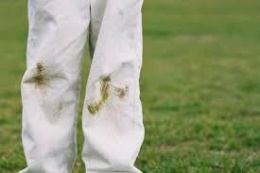earth: (32, 62, 47, 87), (99, 77, 109, 101), (113, 88, 126, 98), (89, 104, 100, 115)
